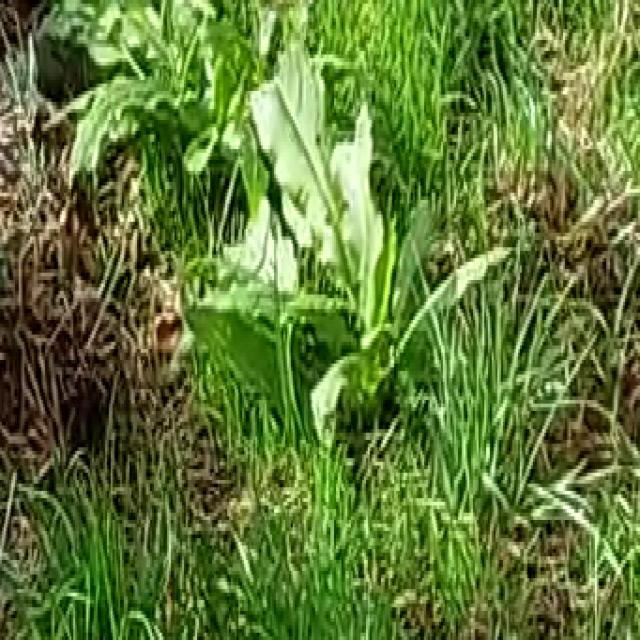organic waste: (180, 7, 520, 473)
